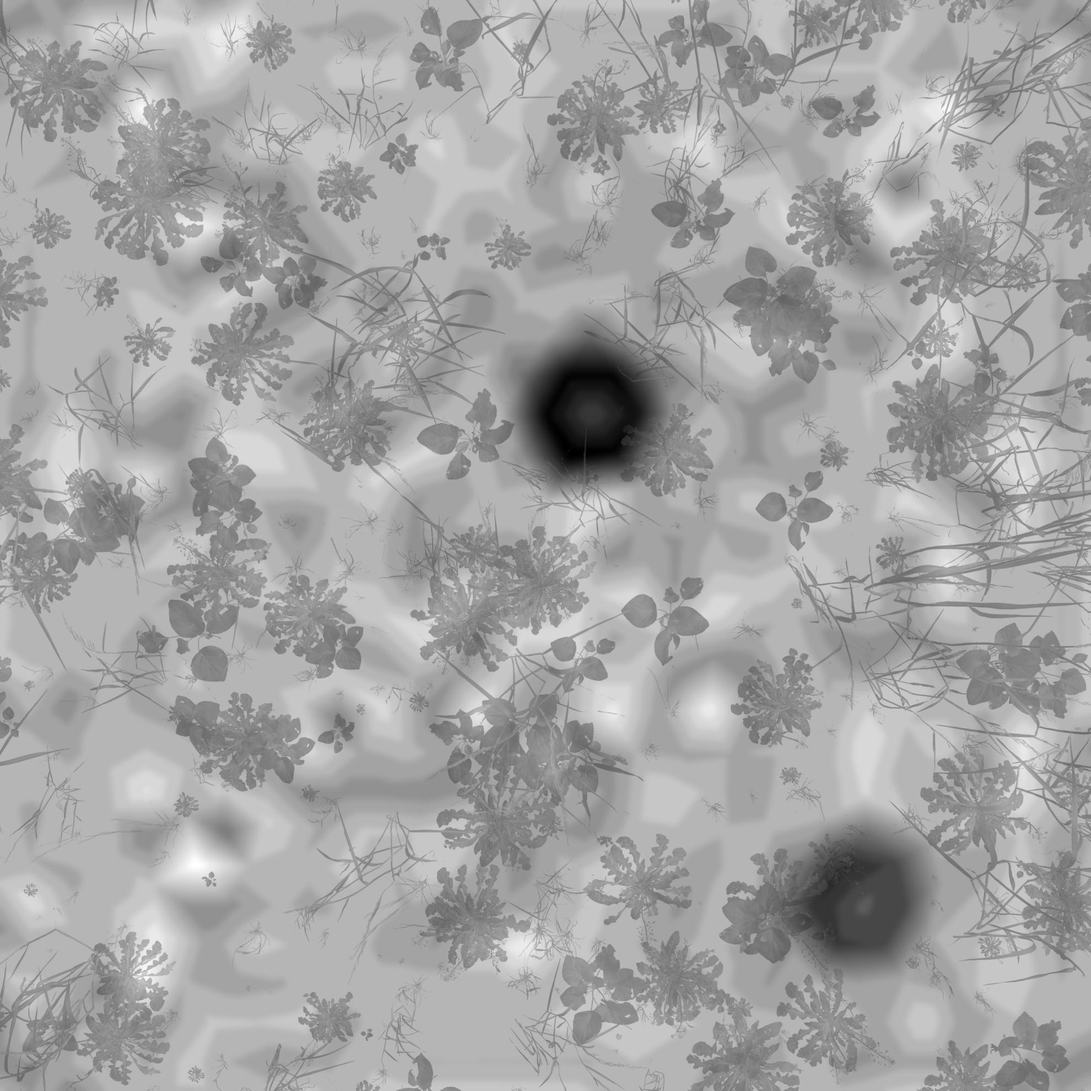landmine: (511, 333, 658, 491), (796, 840, 923, 965)
